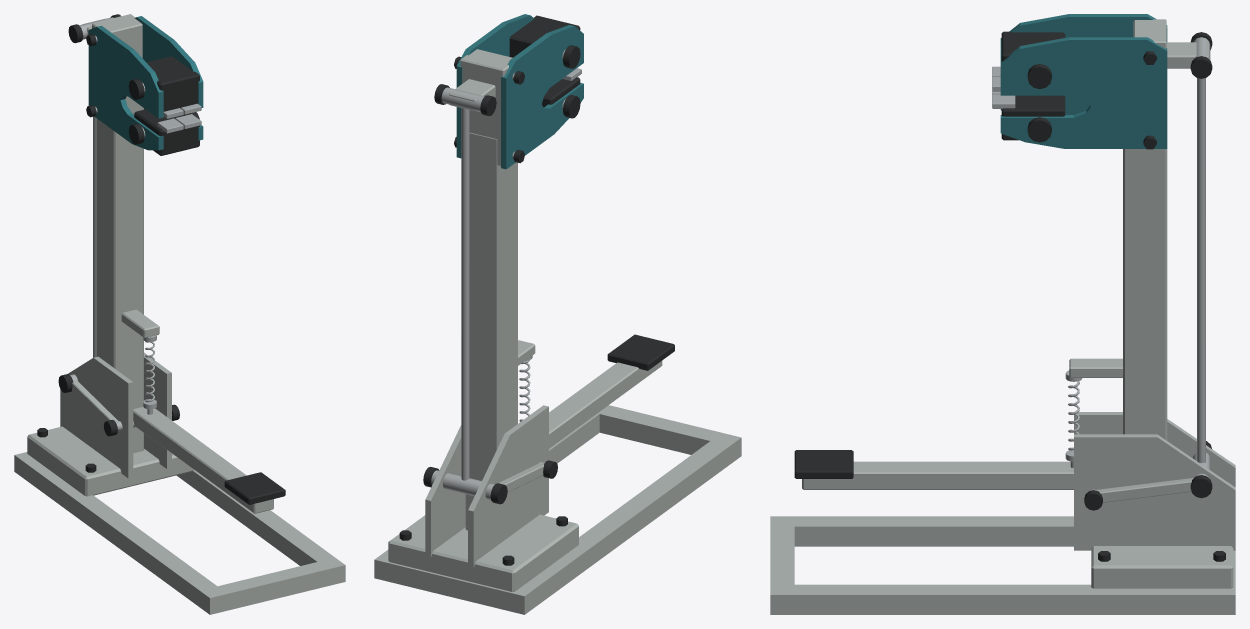
3 renders of one model, left to right at view 1: azimuth 30°, elevation 25°; view 2: azimuth 150°, elevation 25°; view 3: azimuth 270°, elevation 25°, orthographic. The views are drawn at different scales.
Parts seen in each view (by area): view 1: Integral rectangular floor rail base, Tall square support column, Paired C profile head sideplate -0.056, Lower linkage support cheek -0.054, Column floor mounting plate, Long forward foot pedal, Upper jaw supporting carrier, Paired C profile head sideplate 0.056, Lower linkage support cheek 0.054, Lower jaw supporting carrier, Front pedal foot grip, Head rear mounting spine (+3 smaller); view 2: Integral rectangular floor rail base, Tall square support column, Column floor mounting plate, Lower linkage support cheek -0.054, Paired C profile head sideplate -0.056, Long rear vertical actuation link, Long forward foot pedal, Lower linkage support cheek 0.054, Head rear mounting spine, Paired C profile head sideplate 0.056, Front pedal foot grip, Upper jaw supporting carrier (+5 smaller); view 3: Integral rectangular floor rail base, Paired C profile head sideplate 0.056, Lower linkage support cheek 0.054, Tall square support column, Long forward foot pedal, Column floor mounting plate, Long rear vertical actuation link, Paired C profile head sideplate -0.056, Lower linkage support cheek -0.054, Front pedal foot grip, Lower jaw supporting carrier, Side routed lower rocker 0.071 (+4 smaller).
Part boxes in pixels (x1=…): Integral rectangular floor rail base: x1=14, y1=452, x2=345, y2=614; Tall square support column: x1=96, y1=96, x2=143, y2=453; Paired C profile head sideplate -0.056: x1=88, y1=25, x2=163, y2=150; Lower linkage support cheek -0.054: x1=60, y1=356, x2=133, y2=478; Column floor mounting plate: x1=27, y1=426, x2=194, y2=496; Long forward foot pedal: x1=133, y1=407, x2=273, y2=513; Upper jaw supporting carrier: x1=146, y1=56, x2=199, y2=111; Paired C profile head sideplate 0.056: x1=135, y1=16, x2=203, y2=140; Lower linkage support cheek 0.054: x1=144, y1=352, x2=171, y2=468; Lower jaw supporting carrier: x1=134, y1=109, x2=199, y2=155; Front pedal foot grip: x1=224, y1=472, x2=285, y2=504; Head rear mounting spine: x1=92, y1=14, x2=142, y2=57; Integral rectangular floor rail base: x1=374, y1=405, x2=741, y2=614; Tall square support column: x1=465, y1=132, x2=517, y2=530; Column floor mounting plate: x1=388, y1=514, x2=578, y2=591; Lower linkage support cheek -0.054: x1=468, y1=405, x2=548, y2=567; Paired C profile head sideplate -0.056: x1=501, y1=25, x2=583, y2=169; Long rear vertical actuation link: x1=461, y1=108, x2=469, y2=480; Long forward foot pedal: x1=549, y1=361, x2=662, y2=448; Lower linkage support cheek 0.054: x1=425, y1=425, x2=465, y2=556; Head rear mounting spine: x1=460, y1=49, x2=512, y2=166; Paired C profile head sideplate 0.056: x1=456, y1=14, x2=534, y2=158; Front pedal foot grip: x1=607, y1=334, x2=674, y2=370; Upper jaw supporting carrier: x1=509, y1=15, x2=580, y2=57; Integral rectangular floor rail base: x1=770, y1=516, x2=1235, y2=614; Paired C profile head sideplate 0.056: x1=1000, y1=37, x2=1167, y2=148; Lower linkage support cheek 0.054: x1=1074, y1=434, x2=1235, y2=550; Tall square support column: x1=1123, y1=149, x2=1167, y2=440; Long forward foot pedal: x1=802, y1=461, x2=1073, y2=489; Column floor mounting plate: x1=1091, y1=546, x2=1233, y2=588; Long rear vertical actuation link: x1=1197, y1=78, x2=1205, y2=462; Paired C profile head sideplate -0.056: x1=1000, y1=14, x2=1167, y2=114; Lower linkage support cheek -0.054: x1=1074, y1=412, x2=1235, y2=487; Front pedal foot grip: x1=794, y1=450, x2=853, y2=478; Lower jaw supporting carrier: x1=1001, y1=95, x2=1065, y2=140; Side routed lower rocker 0.071: x1=1094, y1=478, x2=1193, y2=502.
Bounding box in the file's own units: 38 × 124 × 95.
